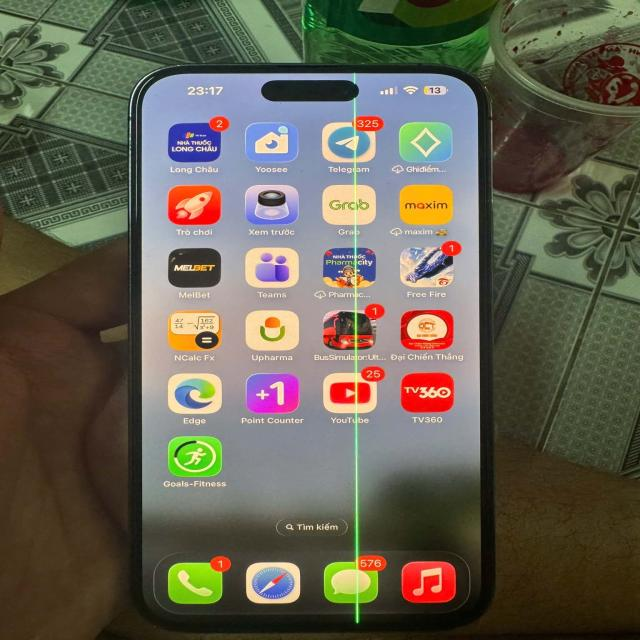screen_defect: (349, 248, 364, 512), (348, 95, 363, 245), (351, 516, 365, 624), (350, 71, 357, 84)
